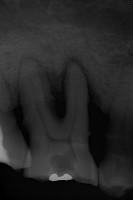Dental Caries: (46, 56, 102, 119)
